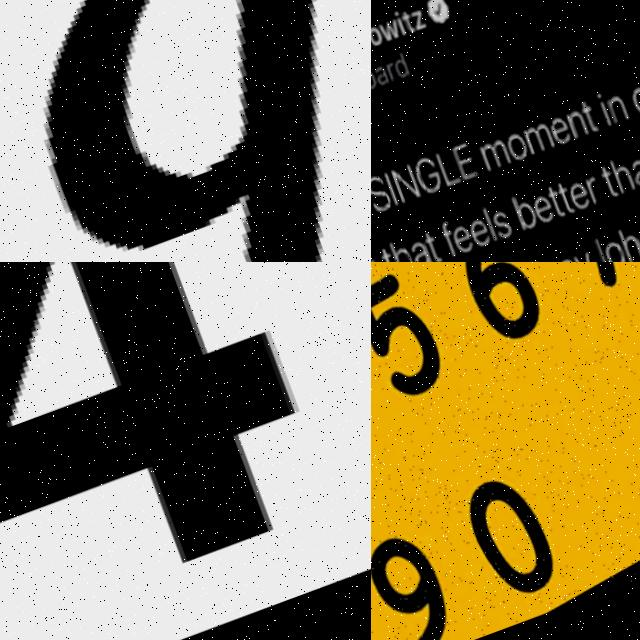0: (426, 431, 586, 633)
5: (371, 262, 470, 428)
6: (414, 262, 568, 373)
7: (520, 262, 640, 313)
9: (371, 475, 479, 640)
A: (407, 237, 433, 262), (372, 64, 391, 88), (626, 157, 640, 189)
B: (511, 191, 539, 230)
C: (629, 87, 640, 116)
D: (391, 53, 411, 80)
E: (452, 143, 480, 182), (547, 115, 573, 147), (465, 217, 491, 249), (530, 193, 556, 225), (566, 179, 592, 211), (449, 224, 474, 253)
F: (439, 221, 458, 256)
G: (411, 154, 444, 195)
H: (607, 154, 636, 196), (618, 223, 640, 262), (389, 239, 416, 262)
I: (596, 93, 614, 128), (384, 173, 400, 207), (394, 9, 407, 36)
L: (435, 150, 462, 188), (482, 204, 498, 242), (591, 236, 610, 262)
M: (478, 139, 512, 174), (522, 121, 555, 156)
N: (390, 165, 422, 204), (565, 110, 590, 142), (606, 94, 630, 125)
O: (503, 130, 531, 164), (600, 238, 626, 262), (371, 25, 384, 46), (371, 70, 378, 92)
Q: (0, 0, 371, 262)
R: (585, 177, 601, 204), (385, 61, 399, 83)
S: (371, 175, 393, 214), (489, 210, 512, 239)
T: (554, 181, 576, 216), (599, 164, 619, 198), (580, 101, 599, 135), (546, 185, 565, 219), (422, 230, 442, 262), (401, 12, 415, 35), (378, 247, 398, 262)
W: (377, 18, 403, 44)
Y: (572, 250, 601, 262)
Z: (409, 8, 429, 32)
